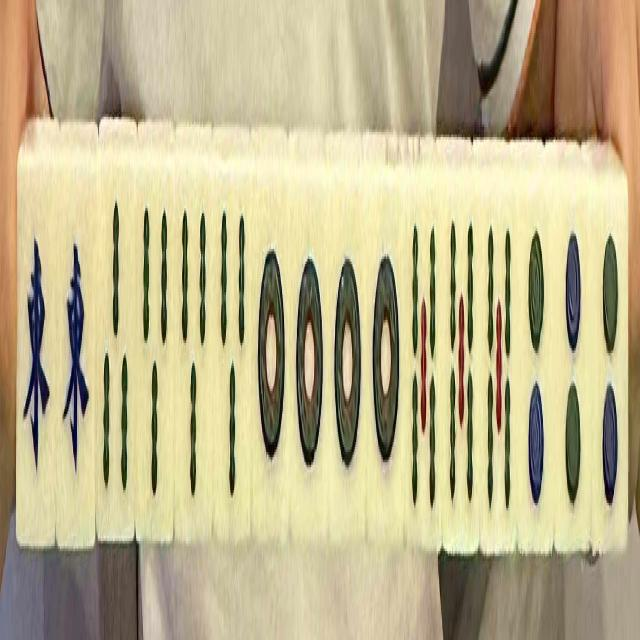east: (56, 174, 93, 534), (20, 174, 56, 534)
s3: (136, 170, 173, 542), (213, 178, 249, 527), (98, 170, 132, 530), (175, 178, 209, 537)
s5: (406, 185, 442, 554), (444, 182, 477, 526), (482, 181, 514, 525)
t1: (328, 174, 366, 544), (251, 174, 288, 527), (367, 182, 405, 524), (290, 171, 326, 529)
t2: (553, 200, 589, 532), (516, 185, 550, 535), (592, 203, 627, 532)
